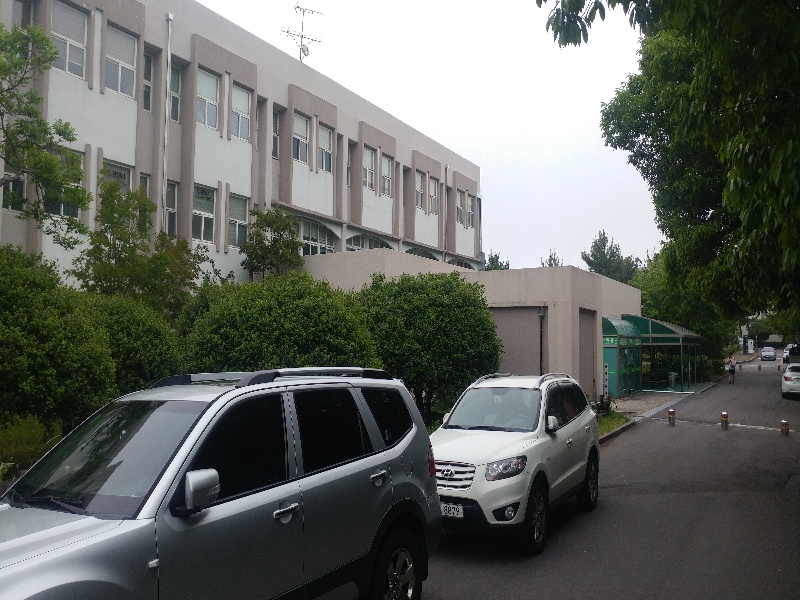Ara Hall: (478, 273, 712, 370), (583, 275, 707, 397)
Main Building: (1, 1, 488, 264)
